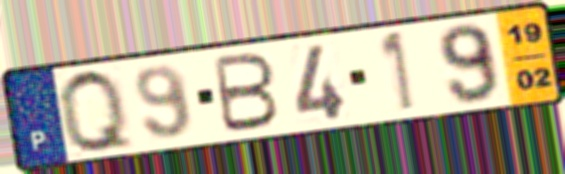1: (377, 28, 419, 115)
4: (291, 40, 351, 124)
9: (433, 20, 504, 106), (131, 62, 197, 142)
B: (211, 50, 283, 136)
Q: (54, 66, 139, 156)
